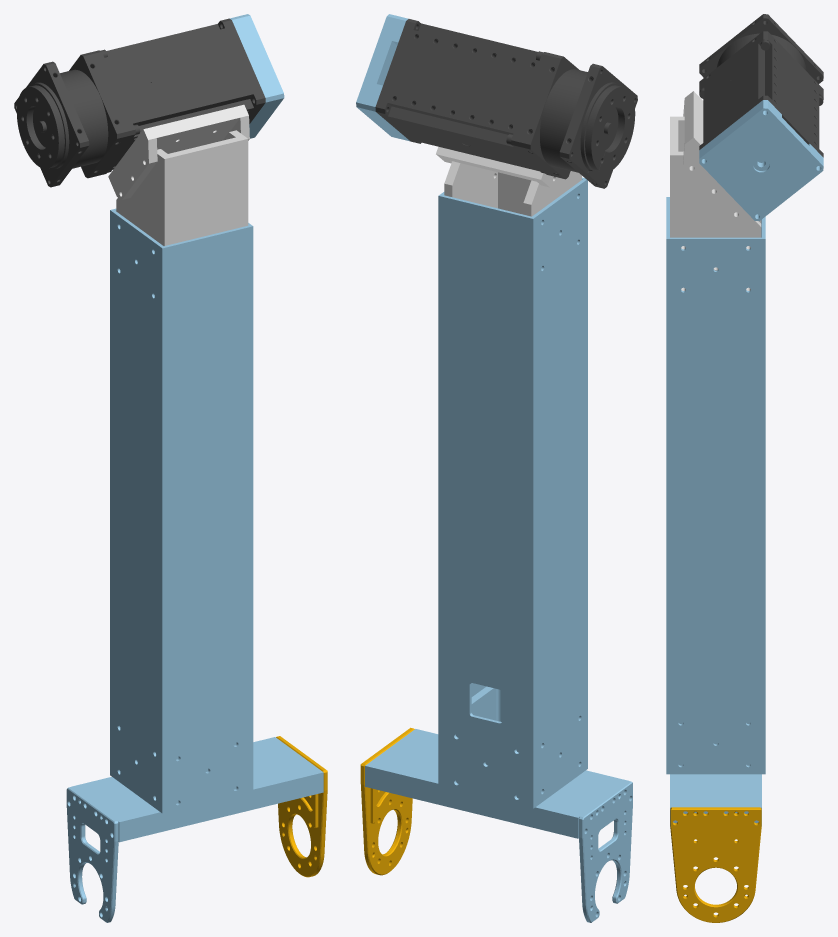
3 renders of one model, left to right at view 1: azimuth 30°, elevation 25°; view 2: azimuth 150°, elevation 25°; view 3: azimuth 270°, elevation 25°, orthographic. The views are drawn at different scales.
Parts seen in each view (by area): view 1: Part 1 (×5), H54-200-S500-R, HINGE_FRP54-H021, NX05P_B03_HINGE-H-S-BA; view 2: Part 1 (×5), H54-200-S500-R, HINGE_FRP54-H021, NX05P_B03_HINGE-H-S-BA; view 3: Part 1 (×5), H54-200-S500-R, NX05P_B03_HINGE-H-S-BA.
Boxes of the visible parts, x1,y1,x2,y2 form: Part 1 (×5): (71,14,323,842); H54-200-S500-R: (14,18,265,187); HINGE_FRP54-H021: (66,787,118,922); NX05P_B03_HINGE-H-S-BA: (276,736,327,877); Part 1 (×5): (356,14,628,838); H54-200-S500-R: (375,19,637,188); HINGE_FRP54-H021: (579,781,632,922); NX05P_B03_HINGE-H-S-BA: (360,727,414,875); Part 1 (×5): (666,91,823,826); H54-200-S500-R: (699,14,823,157); NX05P_B03_HINGE-H-S-BA: (670,807,761,922).
Bounding box in the file's own units: 0.1565 × 0.093 × 0.5227.
